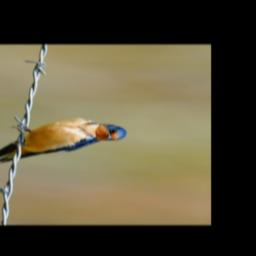Swallow: (0, 116, 128, 170)
